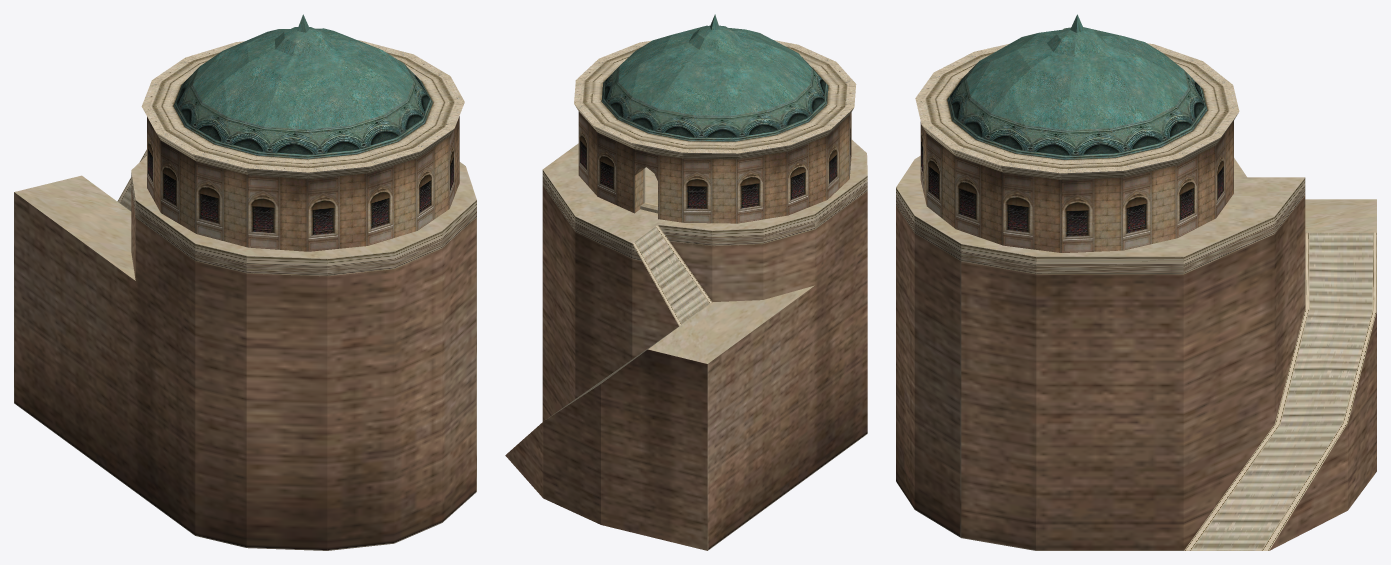
File: ply_nboo_house_sm_s01_fp1_r0_mesh_l2.fbx
3 views of the same model, side by side, from view 1: azimuth 30°, elevation 25°; view 2: azimuth 150°, elevation 25°; view 3: azimuth 270°, elevation 25° (orthographic). The views are drawn at different scales.
Visible parts, largest first — view 1: mesh_node; view 2: mesh_node; view 3: mesh_node.
Part boxes in pixels (<box>): mesh_node: <box>14,14,476,550</box>; mesh_node: <box>505,14,867,550</box>; mesh_node: <box>896,14,1376,550</box>.
Size of the model in its own units: 16.69 by 26.2 by 24.44.
